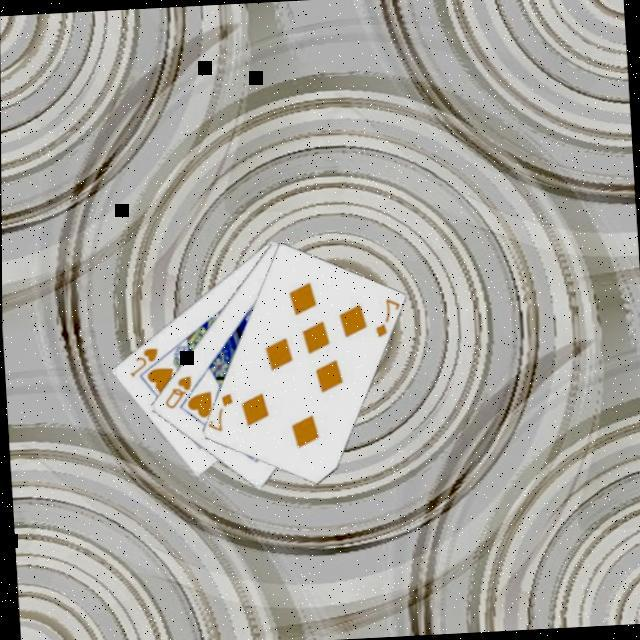7D: (205, 389, 238, 435), (372, 294, 404, 339)
JH: (125, 342, 163, 380)
QH: (161, 371, 197, 411)
